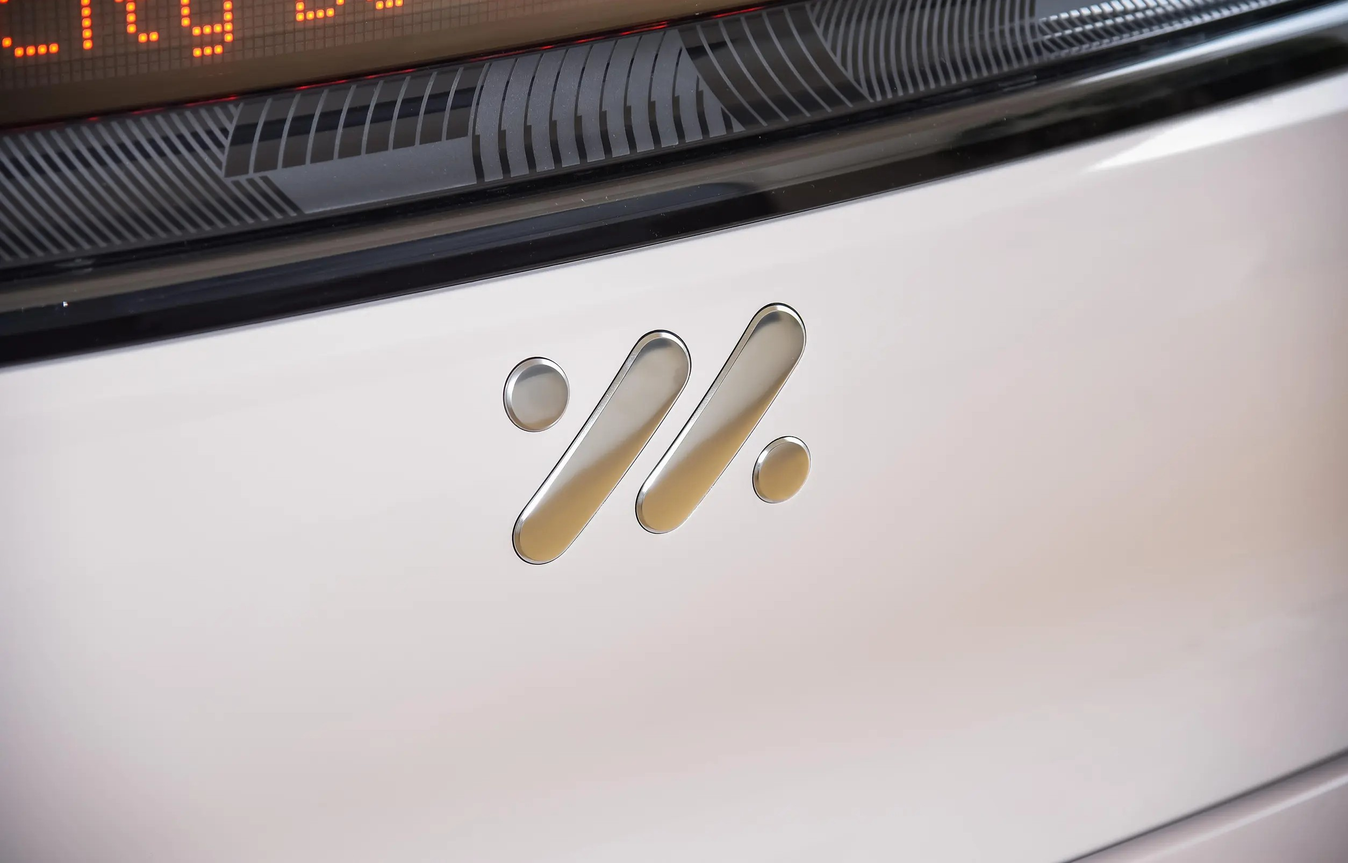IM: (505, 304, 810, 562)
